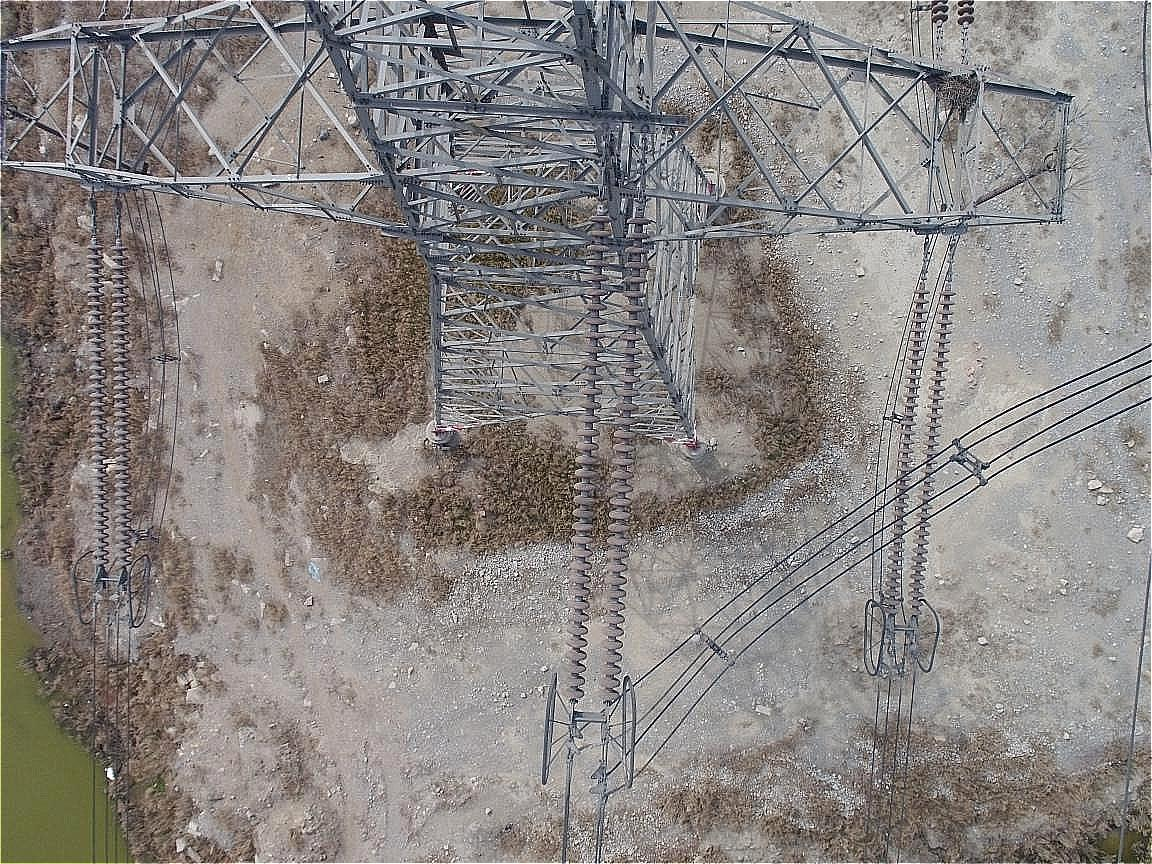insultor1: (563, 187, 656, 715), (878, 250, 956, 643), (66, 231, 147, 586)
